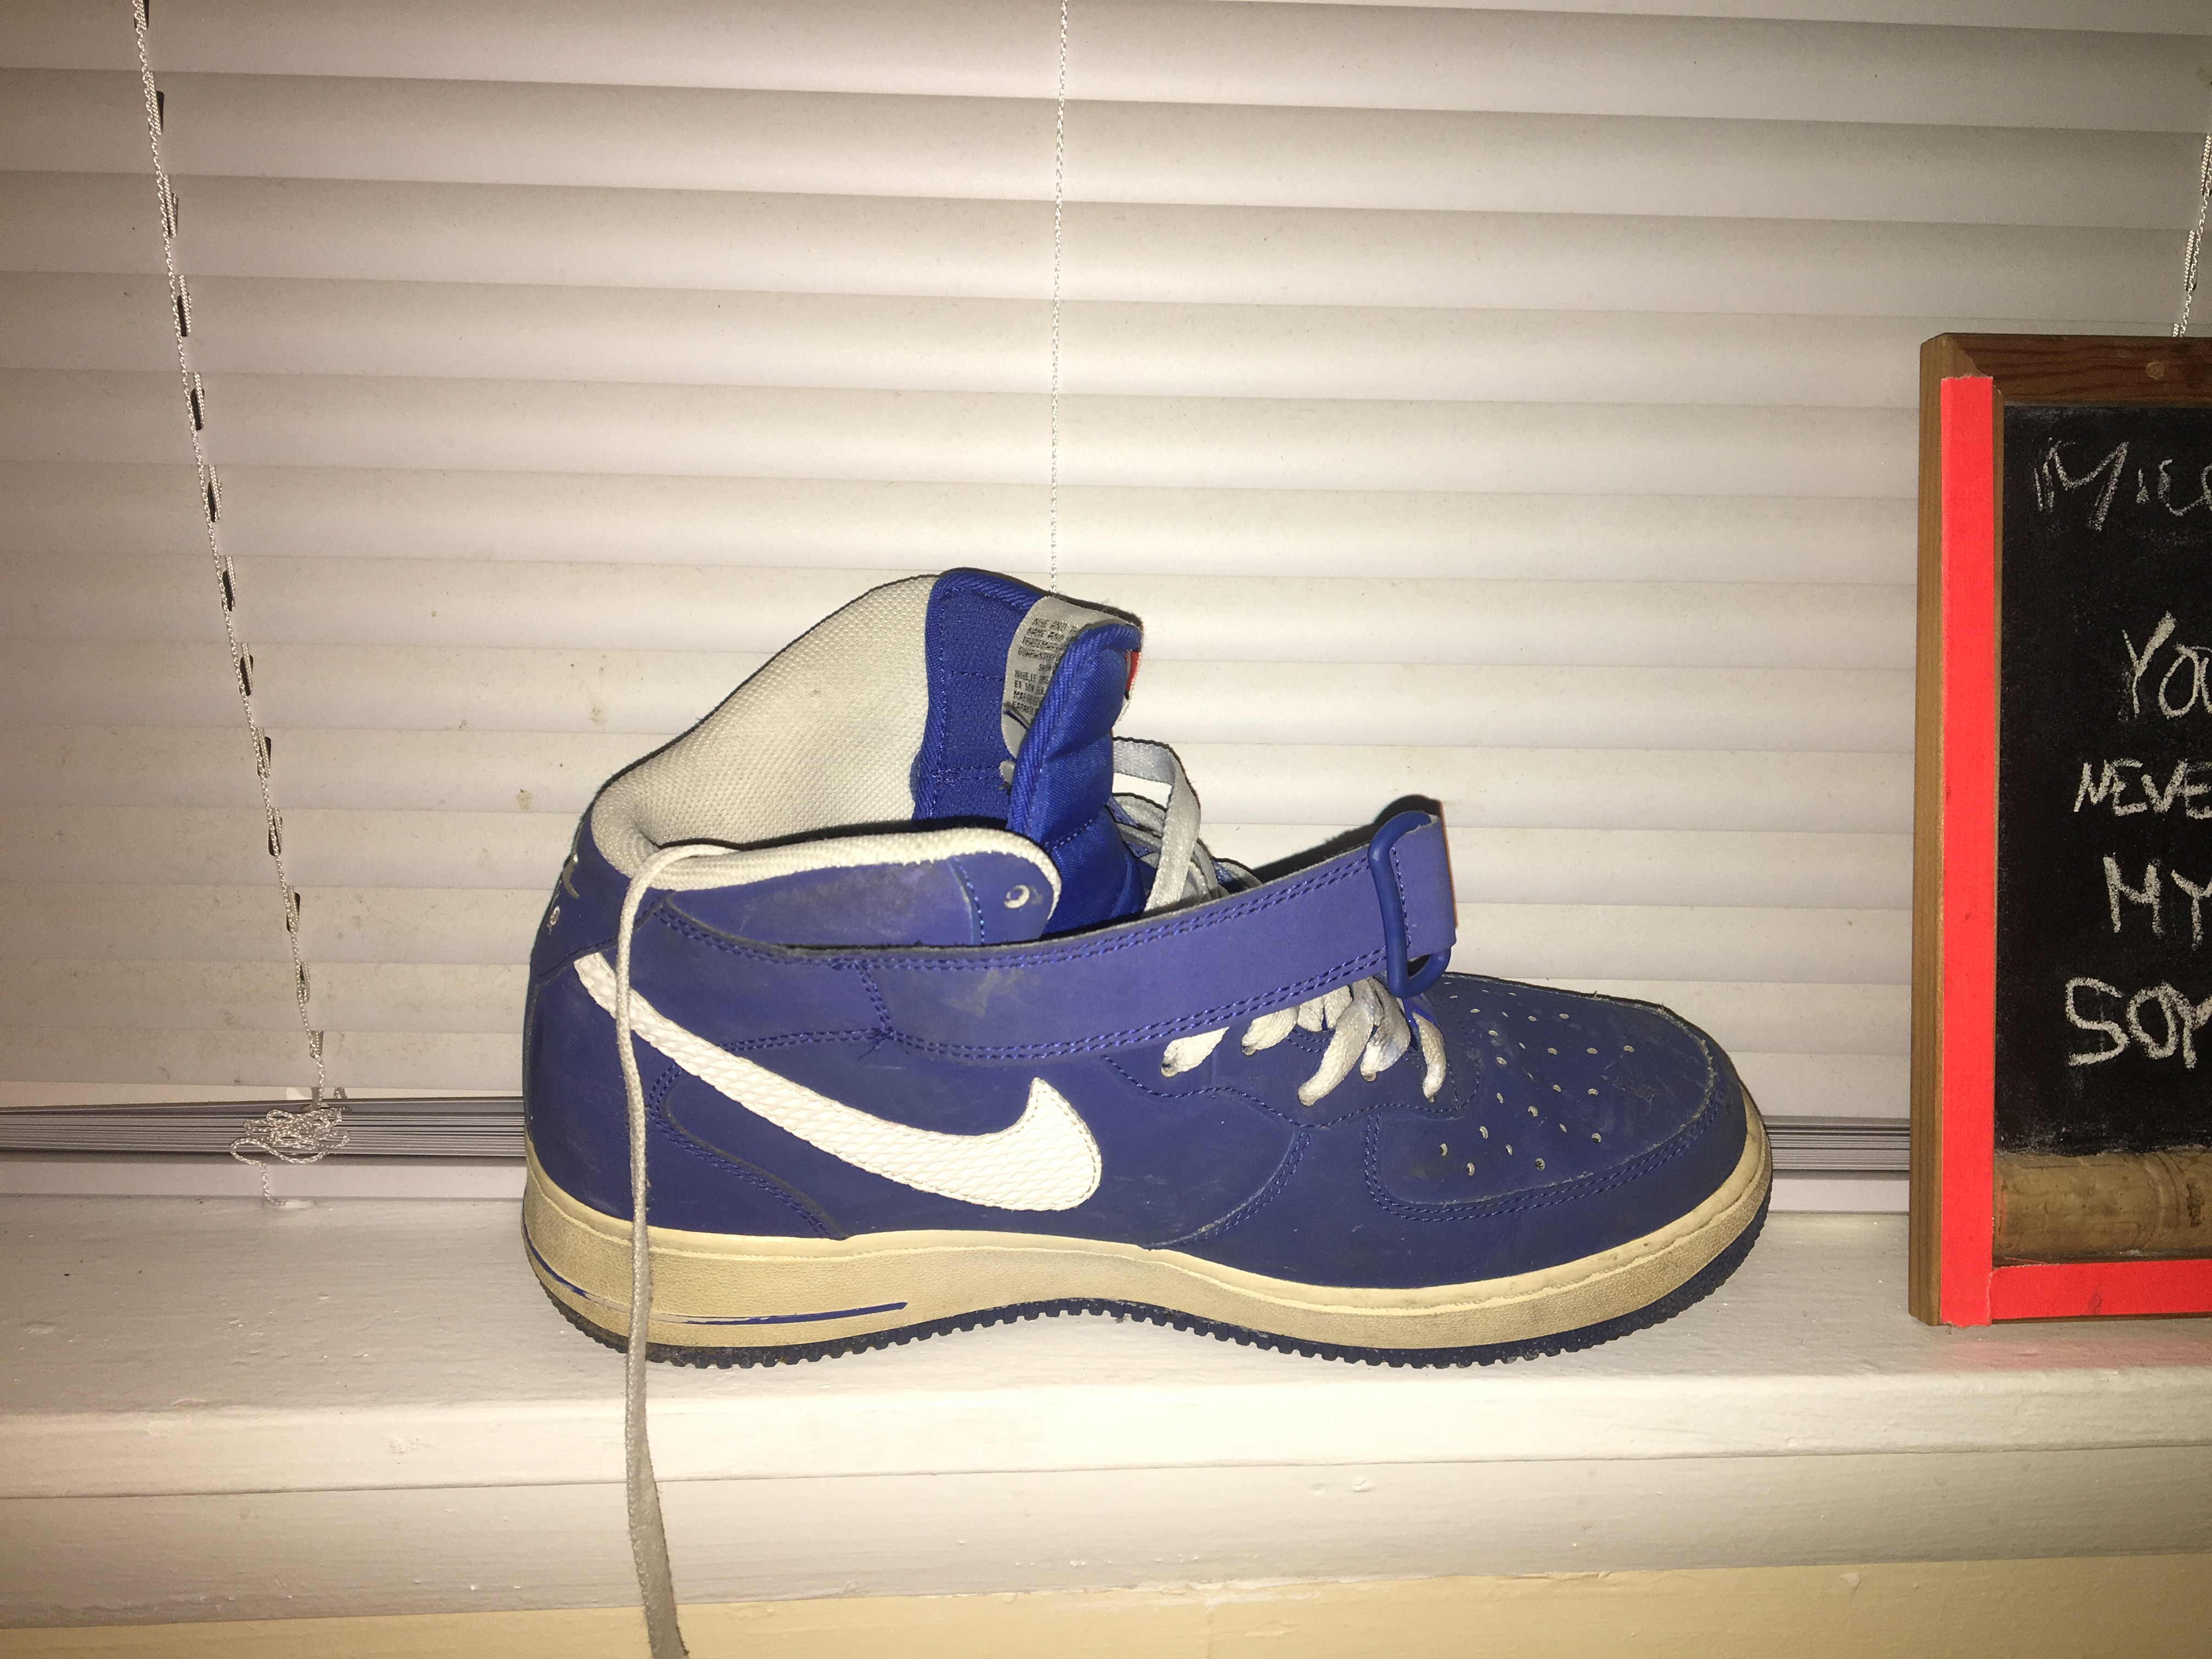Air Force One Blue: (479, 542, 1820, 1448)
